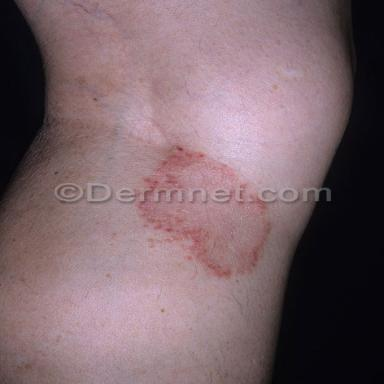Tinea-Corporis: (139, 200, 270, 276), (144, 148, 246, 190)
